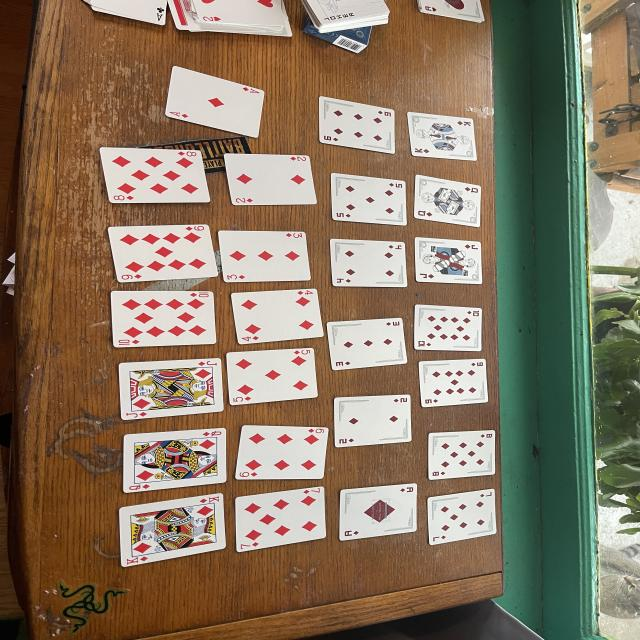10 of diamonds: (112, 291, 217, 348), (413, 305, 482, 351)
10 of hearts: (413, 305, 482, 351)
2 of diamonds: (225, 154, 317, 205), (333, 395, 412, 448)
3 of diamonds: (218, 230, 310, 282), (327, 318, 407, 370)
4 of diamonds: (232, 289, 323, 344), (330, 239, 407, 288)
5 of diamonds: (227, 348, 318, 405), (330, 172, 407, 225)
6 of diamonds: (235, 425, 328, 480), (318, 96, 395, 154)
7 of diamonds: (235, 486, 327, 552), (427, 489, 497, 545)
8 of diamonds: (100, 148, 210, 204), (428, 430, 495, 480)
9 of diamonds: (108, 224, 218, 282), (418, 359, 488, 408)
Ace of diamonds: (165, 66, 265, 138), (340, 484, 417, 540)
Jack of diamonds: (118, 358, 223, 420), (415, 238, 482, 284)
King of diamonds: (120, 494, 225, 566), (407, 112, 477, 161)
Queen of diamonds: (123, 428, 227, 492), (413, 175, 482, 228)
